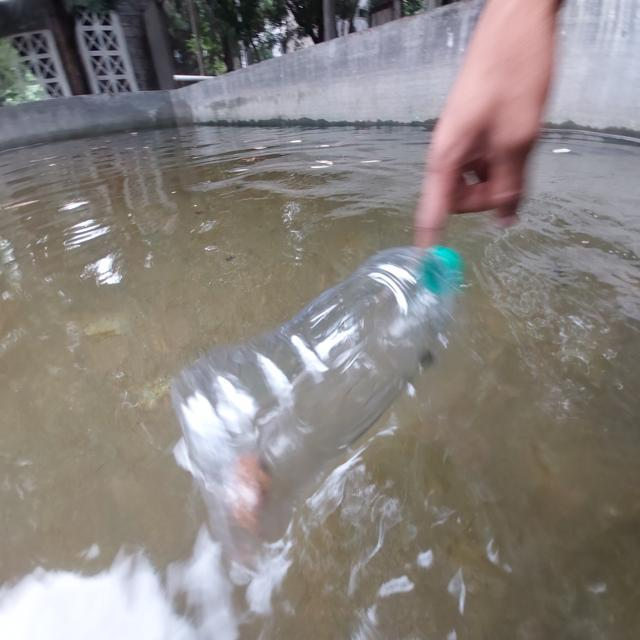waterbottle: (166, 239, 477, 547)
